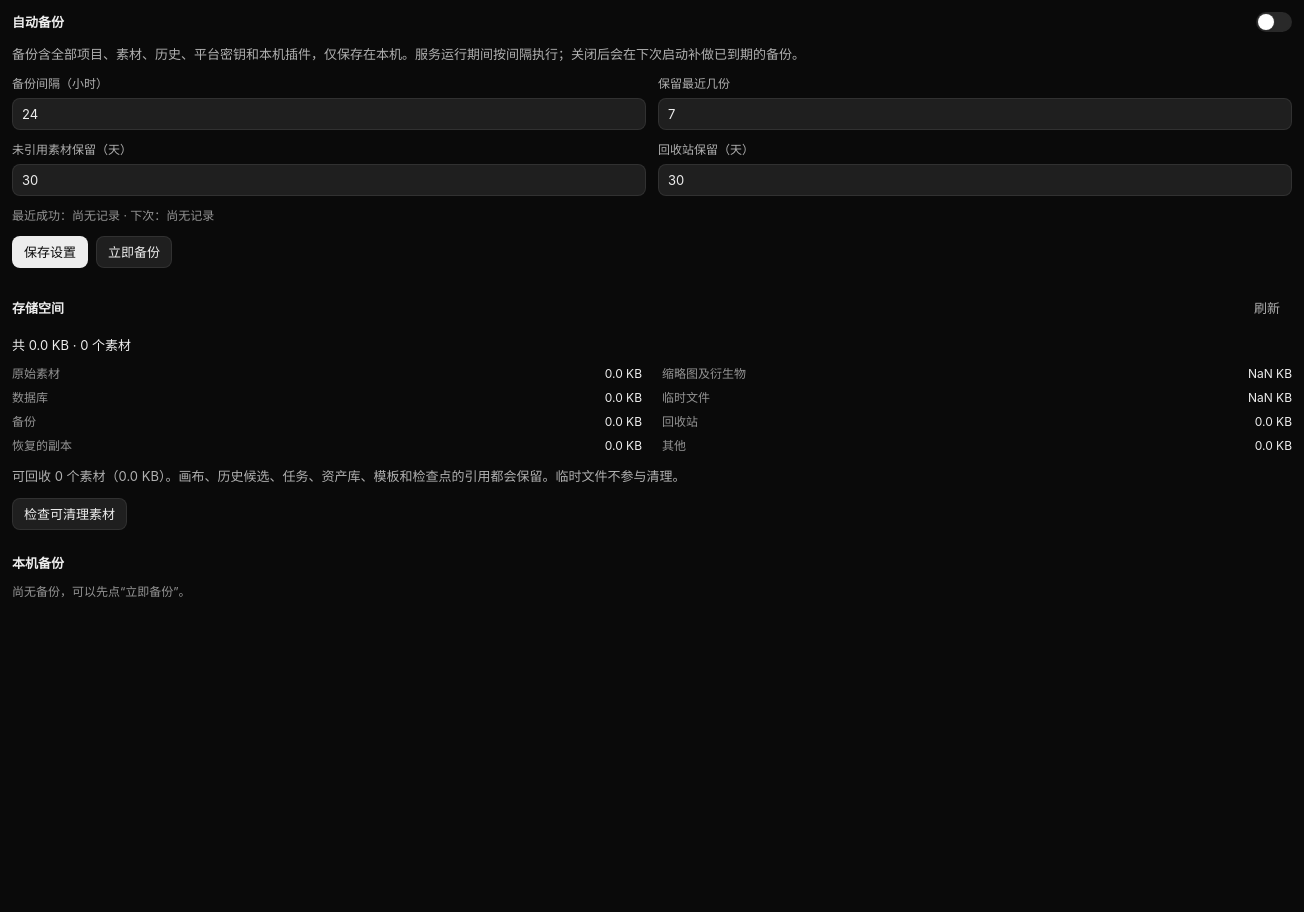
it: 数据维护的清理交互 › 预检失败能重试，重试后才拿到预览
This screenshot has width=1304, height=912.
Click the button "检查可清理素材".
click(70, 514)  # box [12, 498, 127, 530]
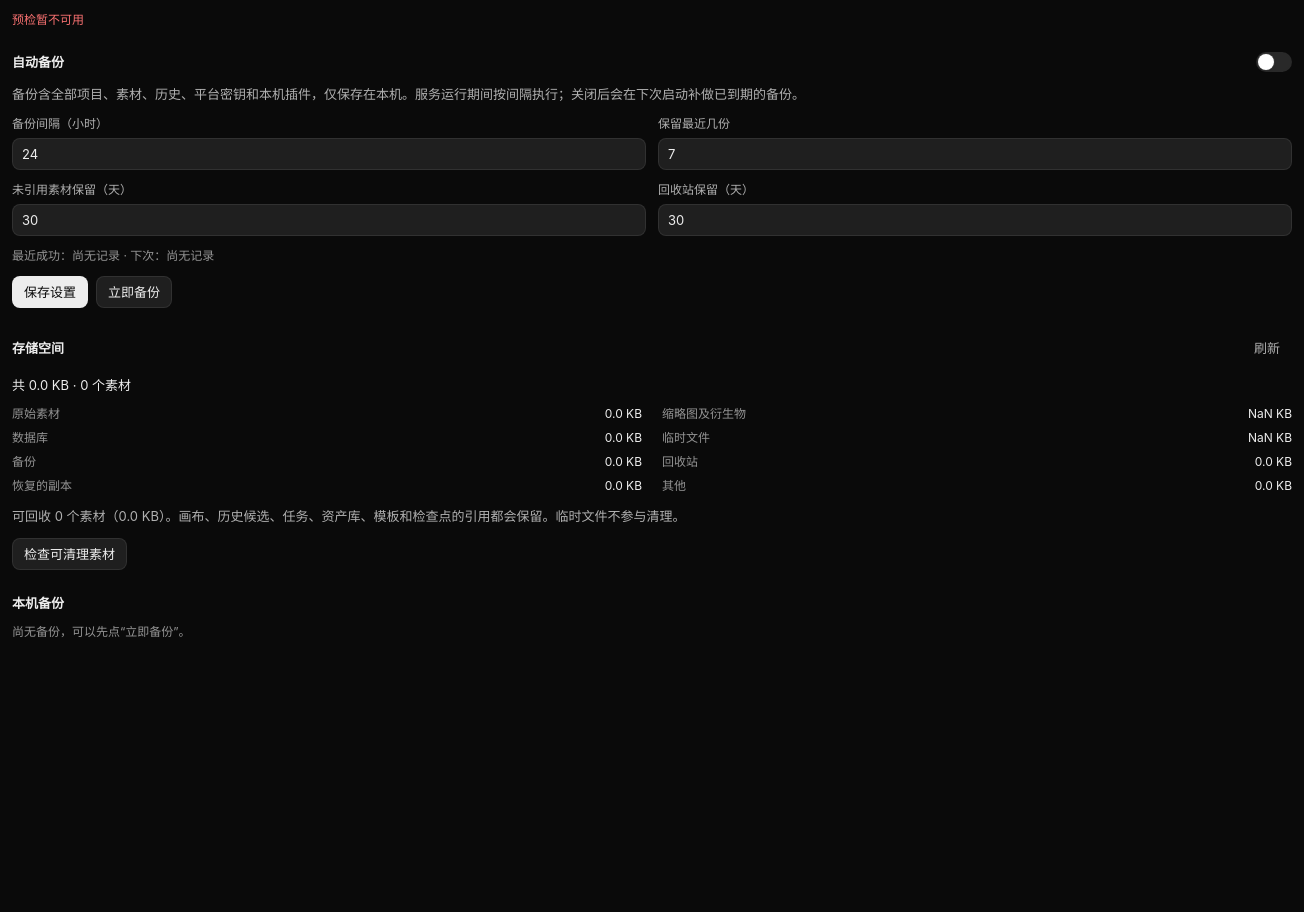
Now the message reads "预检暂不可用", box [12, 12, 84, 27]
Click the button "检查可清理素材".
click(70, 554)  # box [12, 538, 127, 570]
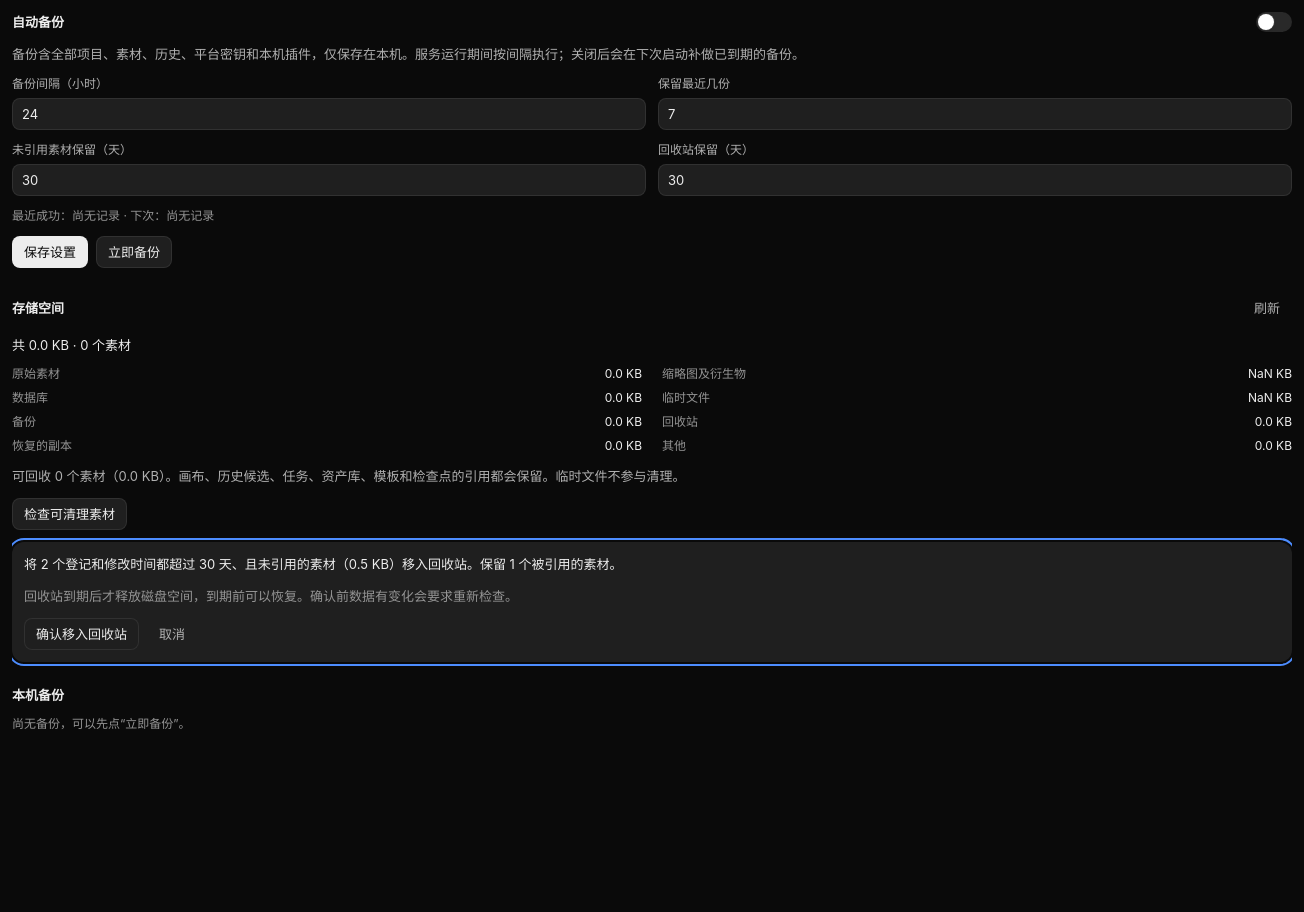
Now the element named "清理预览" is shown, box [12, 542, 1292, 662]
